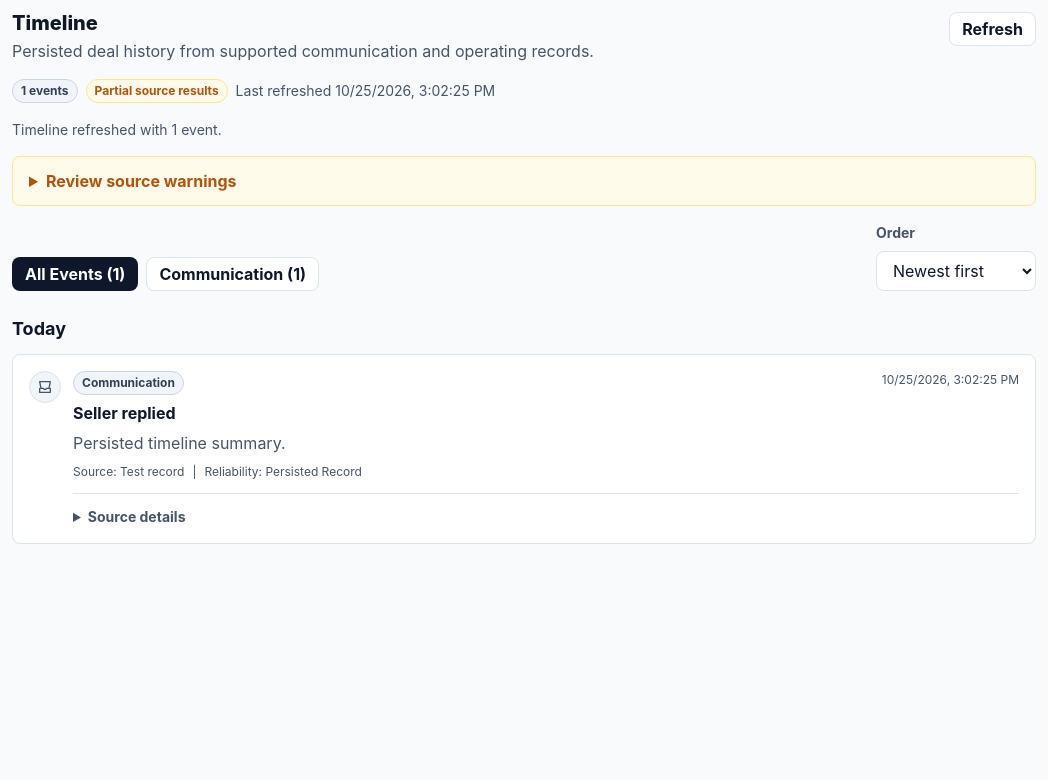
DealTimeline › shows partial source failures without hiding successful events
This screenshot has width=1048, height=780.
Expected: the text "Partial source results" is shown, [86,79,228,103]
Click the heading "Review source warnings" at (141, 181), box [46,171,236,191]
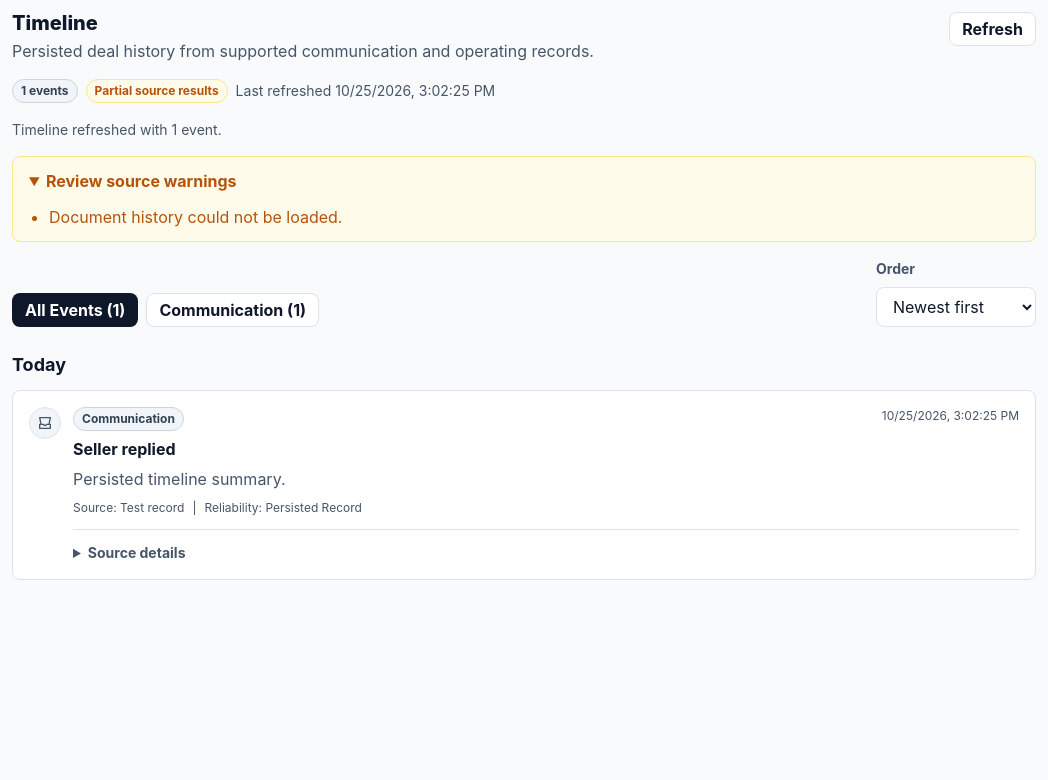
Expected: the heading "Seller replied" is shown, [73,439,176,459]
Expected: the list item "Document history could not be loaded." is shown, [49,207,342,227]
